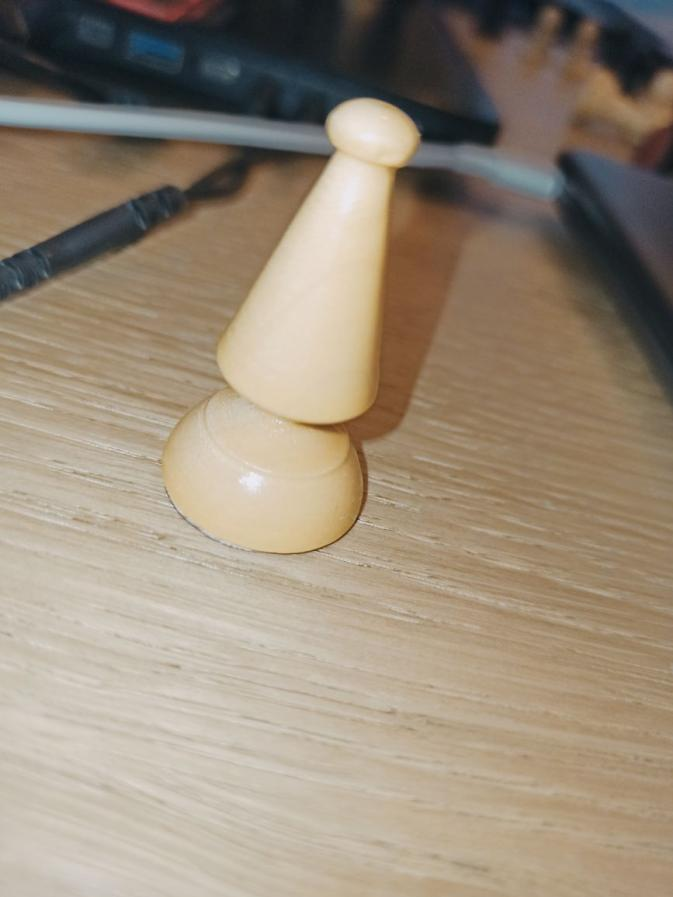wbishop: (159, 97, 424, 555)
